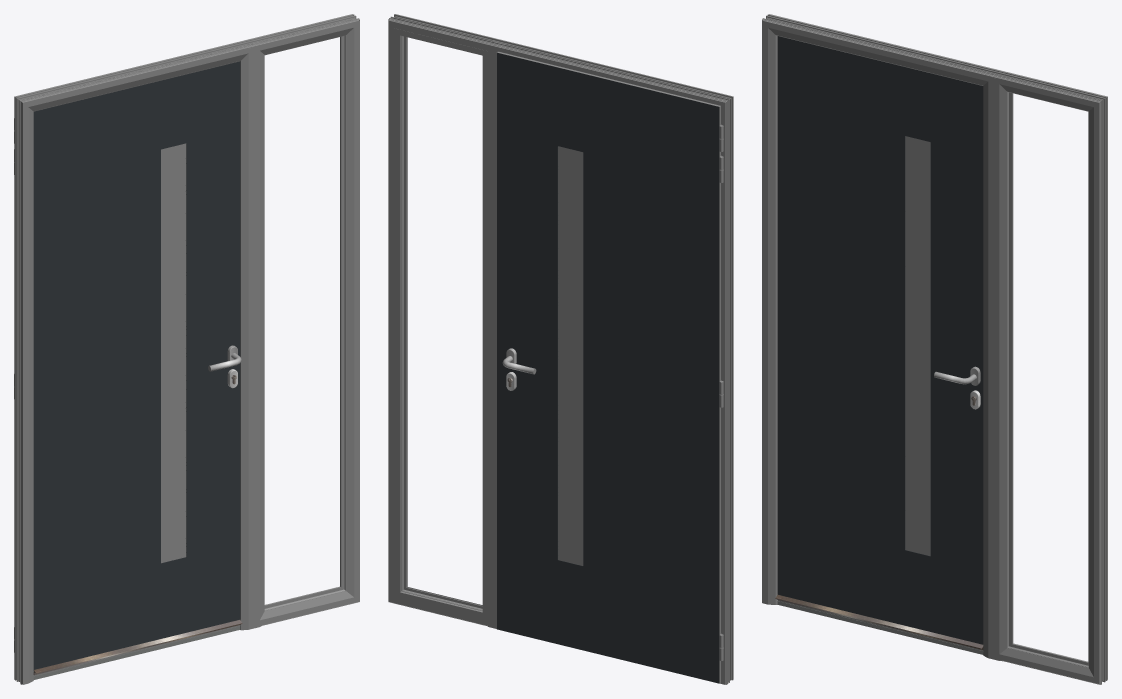
3 views of the same model, side by side, from view 1: azimuth 30°, elevation 25°; view 2: azimuth 150°, elevation 25°; view 3: azimuth 330°, elevation 25° (orthographic).
Visible parts, largest first — view 1: bloco_150, Rectangle002, Line004, Vidro Porta, Object, Object001, Line005, Rectangle005, Rectangle003; view 2: bloco_150, Rectangle002, Vidro Porta, Rectangle003, Line004, Object001, Rectangle004, Object; view 3: bloco_150, Rectangle002, Line004, Vidro Porta, Object001, Object, Line005, Rectangle003, Rectangle005.
Part boxes in pixels (x1,y1,x2,y2): bloco_150: (33,61,240,671); Rectangle002: (14,14,359,684); Line004: (240,46,264,630); Vidro Porta: (161,143,186,563); Object: (33,35,346,680); Object001: (264,36,344,608); Line005: (33,620,242,674); Rectangle005: (33,625,240,679); Rectangle003: (264,37,340,605); bloco_150: (497,52,719,683); Rectangle002: (388,14,733,684); Vidro Porta: (558,146,583,565); Rectangle003: (394,28,487,619); Line004: (488,41,504,628); Object001: (401,36,482,610); Rectangle004: (496,51,720,683); Object: (404,36,482,608); bloco_150: (777,36,983,644); Rectangle002: (762,14,1107,684); Line004: (983,77,1007,661); Vidro Porta: (905,136,930,555); Object001: (1007,92,1088,665); Object: (776,35,1088,667); Line005: (775,595,983,649); Rectangle003: (1012,93,1087,662); Rectangle005: (777,600,983,654).
Bounding box in the file's own units: 1307 × 2150 × 192.
Materials: 7 (4 with a texture image).
